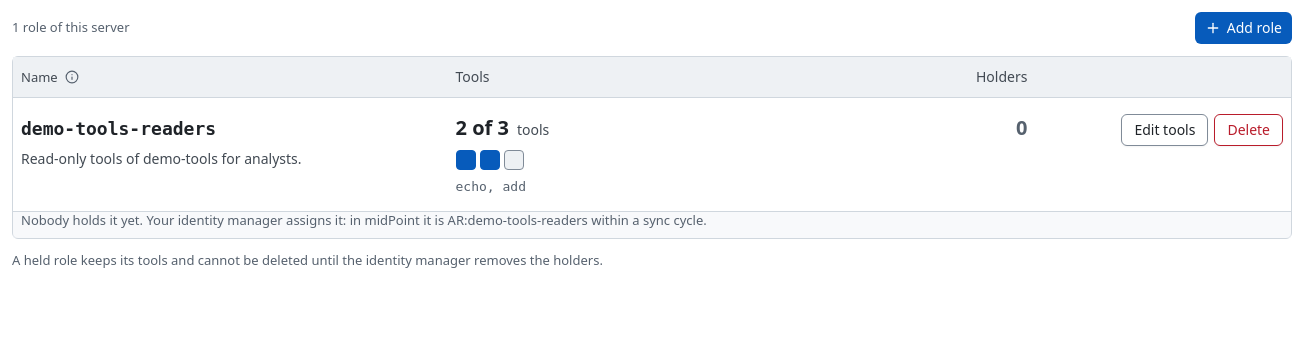
Test: the Roles tab of a server › says what the server said when the access rows behind Edit tools are refused
Click the button "Edit tools" at (1165, 130), box [1121,114,1208,146]
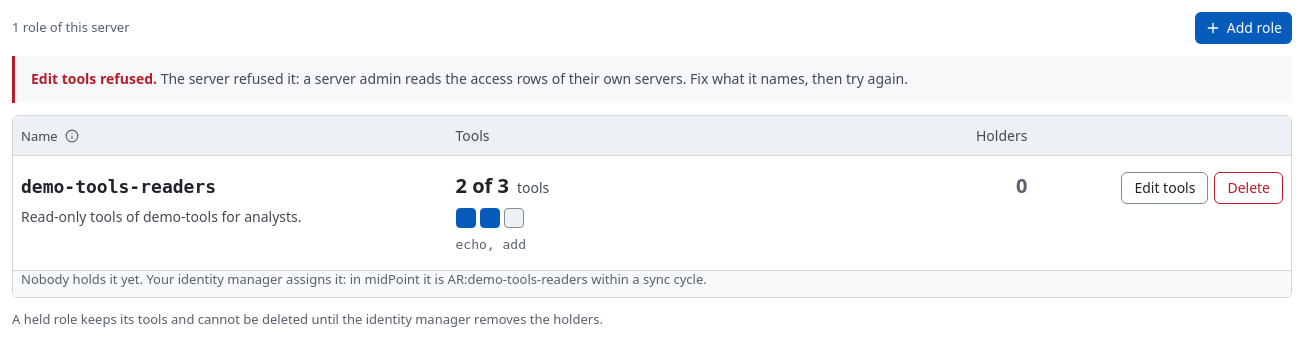
Check: the message shows "Edit tools refused. The server refused it: a server admin reads the access rows of their own servers. Fix what it names, then try again.", box [12,56,1292,103]
